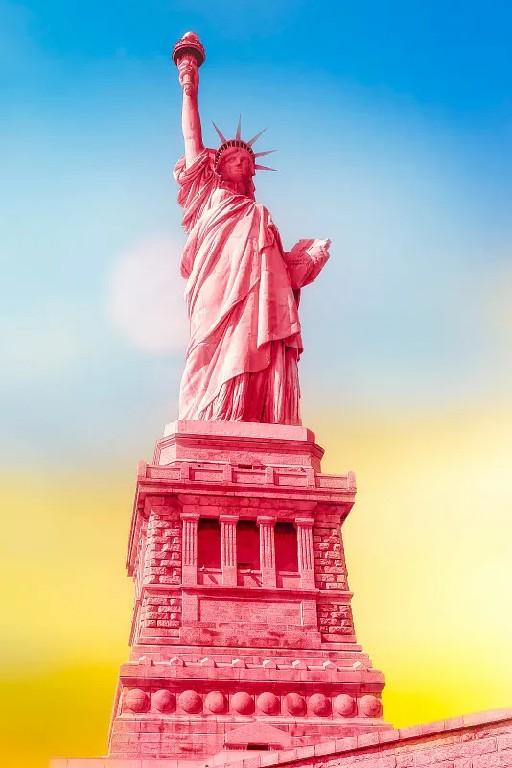SL: (108, 31, 394, 760)
